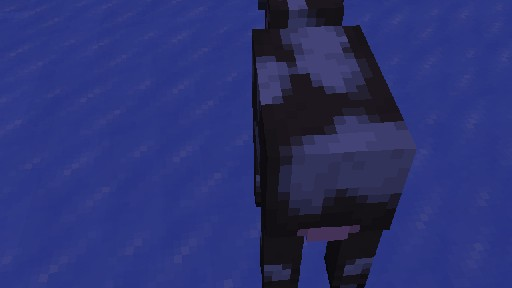cow: (251, 0, 417, 288)
